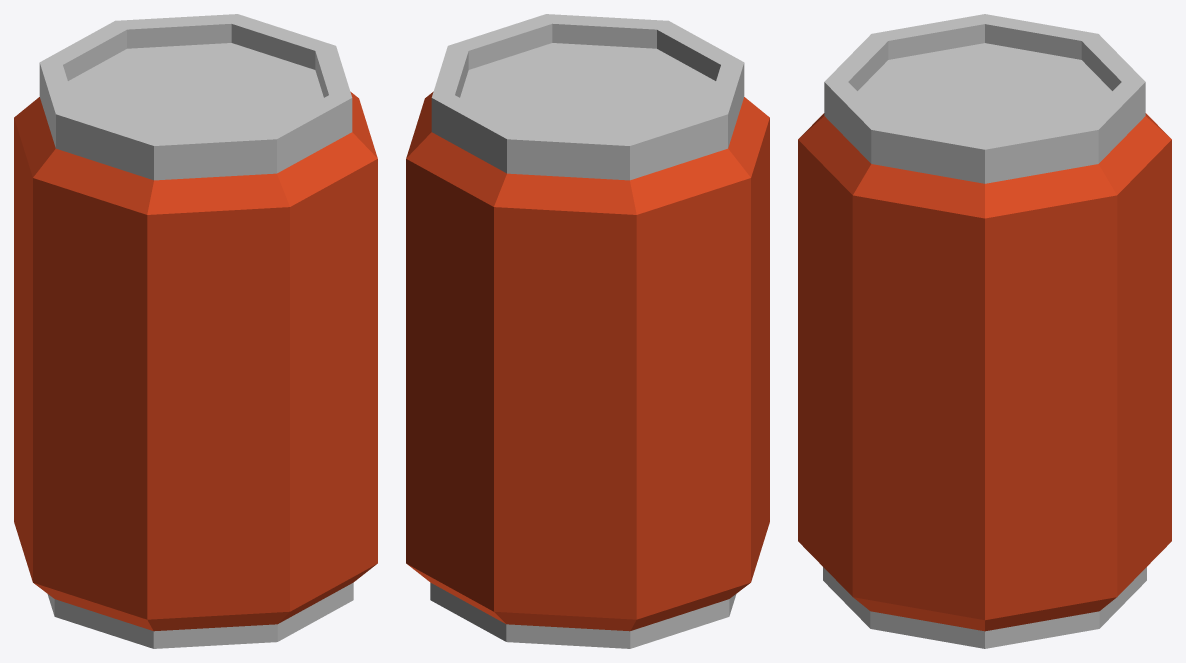
The model's file is soda .fbx.
The picture shows the model from 3 angles, left to right: view 1: azimuth 30°, elevation 25°; view 2: azimuth 150°, elevation 25°; view 3: azimuth 270°, elevation 25°; orthographic projection.
Visible parts, largest first — view 1: soda can.001; view 2: soda can.001; view 3: soda can.001.
Part boxes in pixels (<box>): soda can.001: <box>14,14,377,648</box>; soda can.001: <box>406,14,769,648</box>; soda can.001: <box>798,14,1171,648</box>.
Size of the model in its own units: 51.3 by 75.49 by 51.3.
